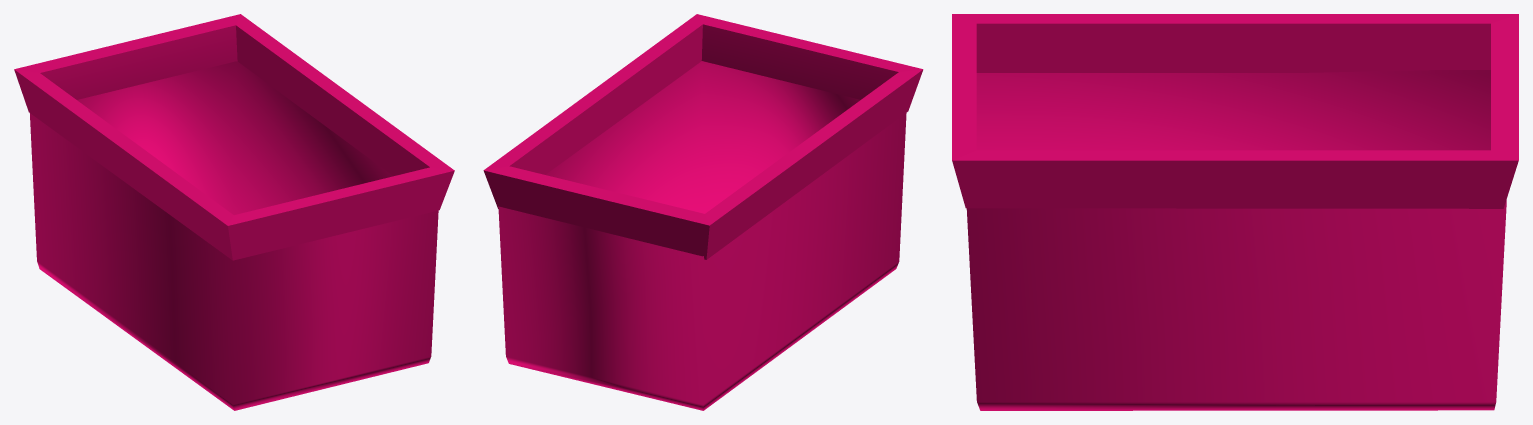
Rendered from Shop_Basket_01_Lod2.fbx.
3 views of the same model, side by side, from view 1: azimuth 30°, elevation 25°; view 2: azimuth 150°, elevation 25°; view 3: azimuth 270°, elevation 25° (orthographic). The views are drawn at different scales.
Visible parts, largest first — view 1: Shop_Basket_01_Lod2; view 2: Shop_Basket_01_Lod2; view 3: Shop_Basket_01_Lod2.
Boxes of the visible parts, <box> form: Shop_Basket_01_Lod2: <box>14,14,454,410</box>; Shop_Basket_01_Lod2: <box>483,14,923,410</box>; Shop_Basket_01_Lod2: <box>952,14,1518,410</box>.
Size of the model in its own units: 32.72 by 27.11 by 53.44.
